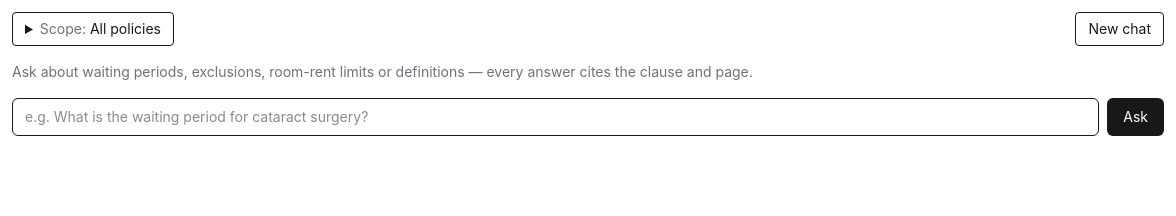
Test: ChatView › turns a 429 into a limit message with the wait time
Type "q" into the field at [556, 117], box top-left (12, 98), bottom-right (1099, 136)
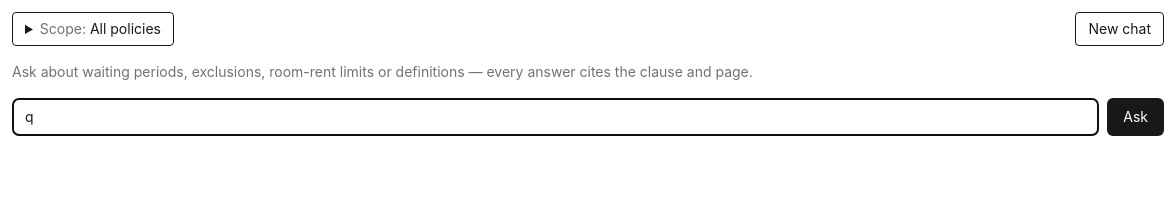
Click the button "Ask" at [1136, 117], box top-left (1107, 98), bottom-right (1164, 136)
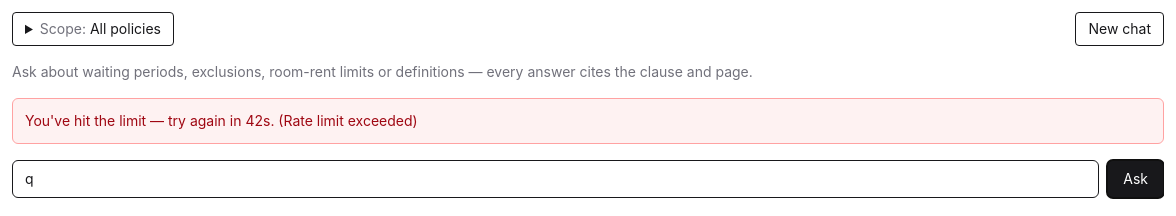
Now the message shows "You've hit the limit — try again in 42s", box top-left (25, 112), bottom-right (418, 129)
